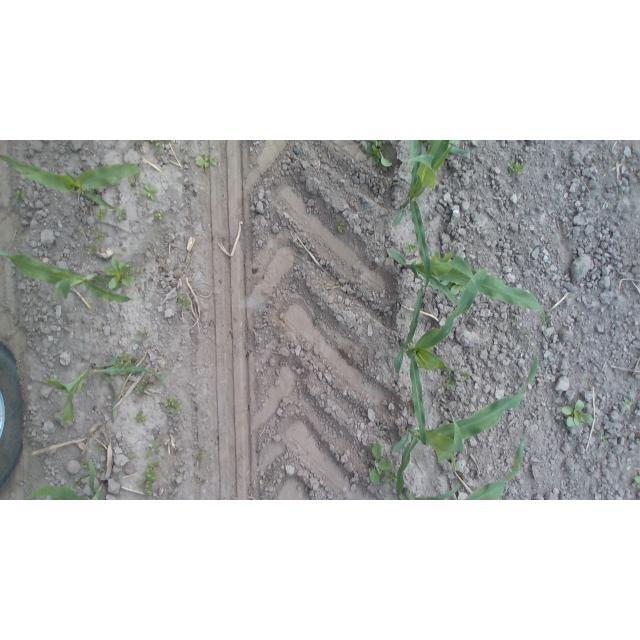Maize: (390, 357, 539, 500), (393, 269, 489, 447), (384, 245, 547, 328), (392, 140, 457, 290), (44, 351, 166, 430), (403, 428, 527, 500), (1, 152, 143, 213), (1, 250, 136, 305), (24, 457, 108, 500), (448, 141, 473, 156)
Weeds: (364, 439, 392, 487), (103, 255, 136, 289), (561, 398, 596, 430), (355, 141, 393, 170), (138, 460, 161, 496), (195, 151, 218, 170), (140, 183, 161, 202), (144, 440, 162, 461), (506, 156, 524, 176), (164, 395, 182, 414), (135, 377, 150, 396), (445, 368, 458, 389), (176, 294, 193, 309), (116, 352, 132, 366), (115, 209, 129, 224), (150, 140, 171, 150), (334, 219, 347, 234), (402, 243, 418, 254), (135, 408, 146, 424), (93, 227, 105, 241), (600, 430, 610, 445), (622, 395, 632, 410), (13, 190, 25, 202), (95, 208, 107, 220), (453, 282, 464, 294), (88, 244, 99, 256), (461, 370, 471, 382), (386, 473, 396, 484), (634, 472, 640, 490), (154, 209, 163, 219), (582, 373, 590, 383), (128, 453, 136, 463), (73, 480, 81, 489), (97, 443, 105, 452), (83, 461, 90, 470), (525, 331, 532, 339), (196, 449, 203, 457), (137, 330, 144, 337)
